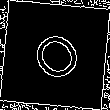O_SE: (22, 22, 88, 88)
